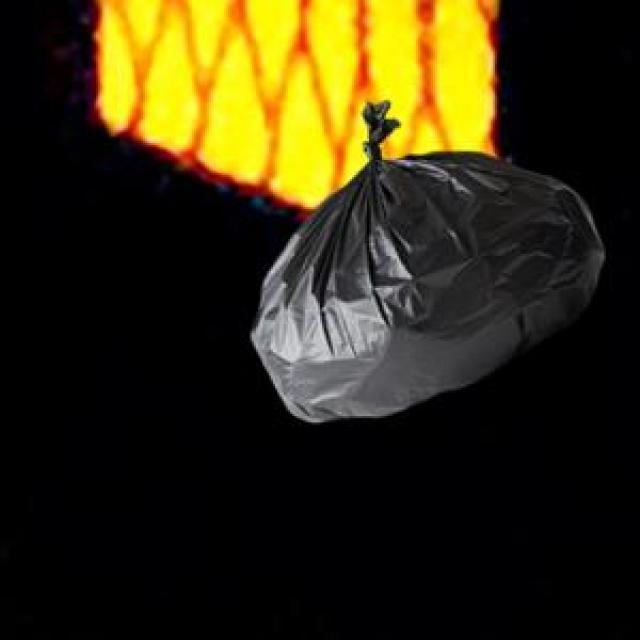Bolsa-de-nilon: (249, 104, 607, 428)
